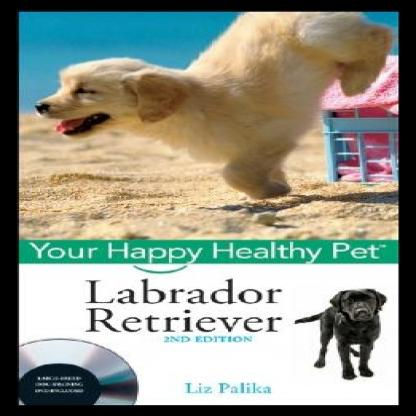Labarador Retriever: (31, 10, 393, 192)
